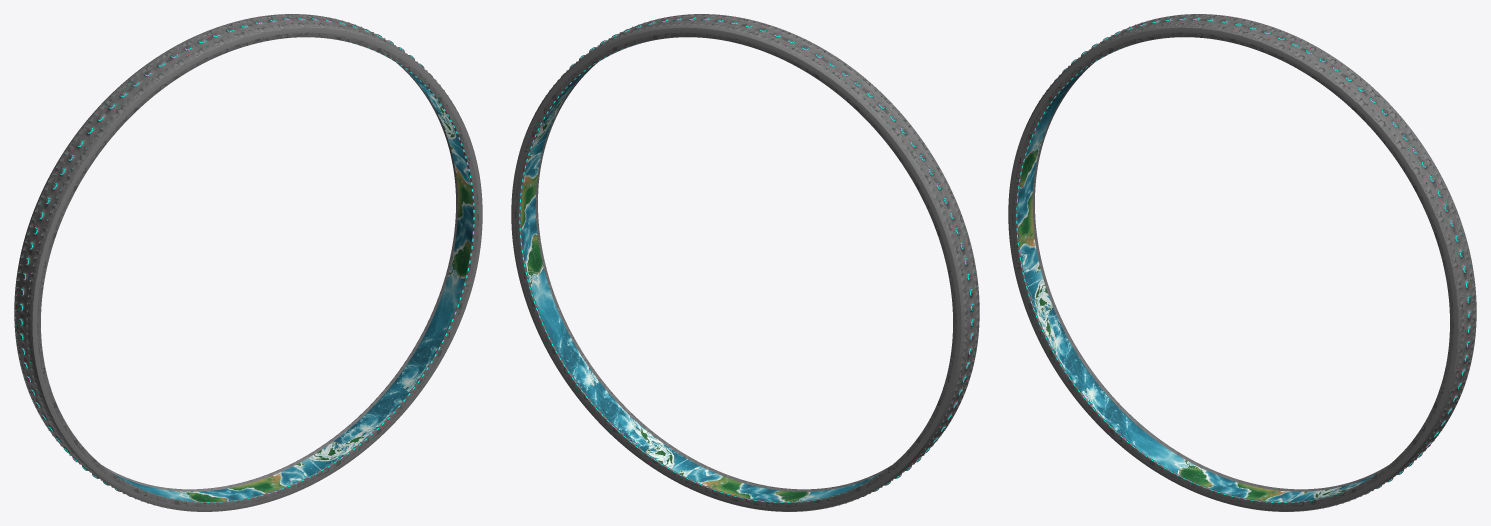
Rendered from halo_ring-transformed.glb.
3 views of the same model, side by side, from view 1: azimuth 30°, elevation 25°; view 2: azimuth 150°, elevation 25°; view 3: azimuth 330°, elevation 25° (orthographic).
Visible parts, largest first — view 1: MaterialFBXASC032FBXASC0352142150746, MaterialFBXASC032FBXASC0352142146801, MaterialFBXASC032FBXASC0352142147988, LIGHTKRAFTFBXASC032GRAVITONFBXASC032; view 2: MaterialFBXASC032FBXASC0352142150746, MaterialFBXASC032FBXASC0352142146801, MaterialFBXASC032FBXASC0352142147988, LIGHTKRAFTFBXASC032GRAVITONFBXASC032; view 3: MaterialFBXASC032FBXASC0352142150746, MaterialFBXASC032FBXASC0352142146801, MaterialFBXASC032FBXASC0352142147988, LIGHTKRAFTFBXASC032GRAVITONFBXASC032.
Part boxes in pixels (x1,y1,x2,y2): MaterialFBXASC032FBXASC0352142150746: (14, 14, 482, 511); MaterialFBXASC032FBXASC0352142146801: (113, 67, 472, 501); MaterialFBXASC032FBXASC0352142147988: (32, 27, 482, 511); LIGHTKRAFTFBXASC032GRAVITONFBXASC032: (20, 17, 474, 502); MaterialFBXASC032FBXASC0352142150746: (511, 14, 979, 511); MaterialFBXASC032FBXASC0352142146801: (521, 67, 880, 501); MaterialFBXASC032FBXASC0352142147988: (511, 27, 961, 511); LIGHTKRAFTFBXASC032GRAVITONFBXASC032: (519, 17, 973, 502); MaterialFBXASC032FBXASC0352142150746: (1008, 14, 1476, 511); MaterialFBXASC032FBXASC0352142146801: (1017, 68, 1377, 501); MaterialFBXASC032FBXASC0352142147988: (1008, 27, 1458, 511); LIGHTKRAFTFBXASC032GRAVITONFBXASC032: (1016, 17, 1470, 502).
Size of the model in its own units: 2069 by 2069 by 150.
Materials: 4 (2 with a texture image).
